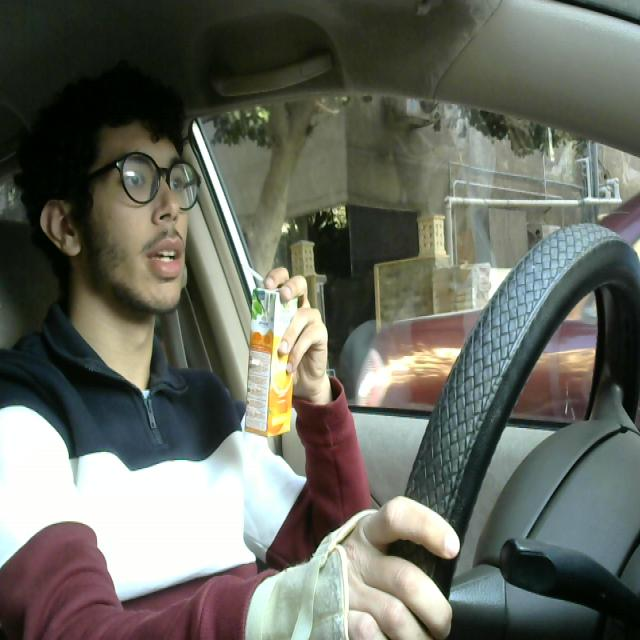drinking: (236, 254, 298, 446)
